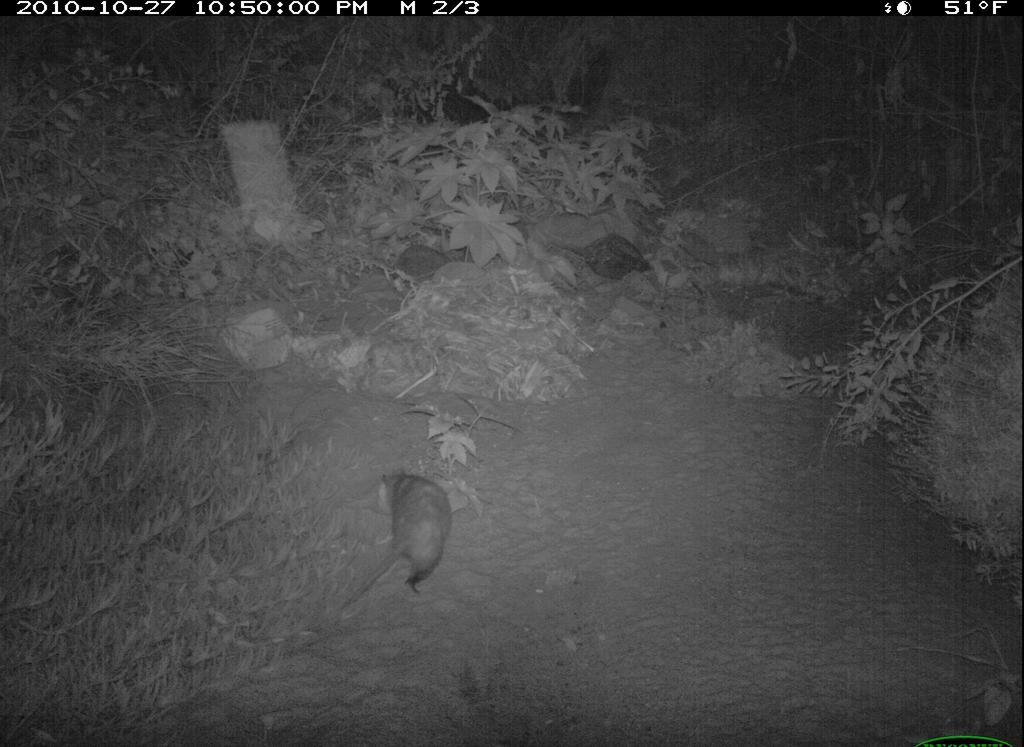opossum: (342, 469, 463, 612)
